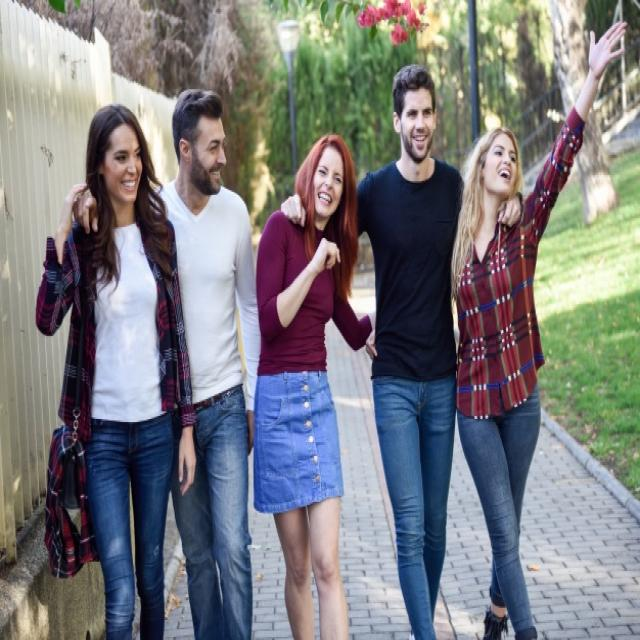body: (448, 11, 632, 638), (74, 79, 260, 638), (356, 59, 530, 638), (32, 95, 201, 639), (250, 123, 384, 638)
